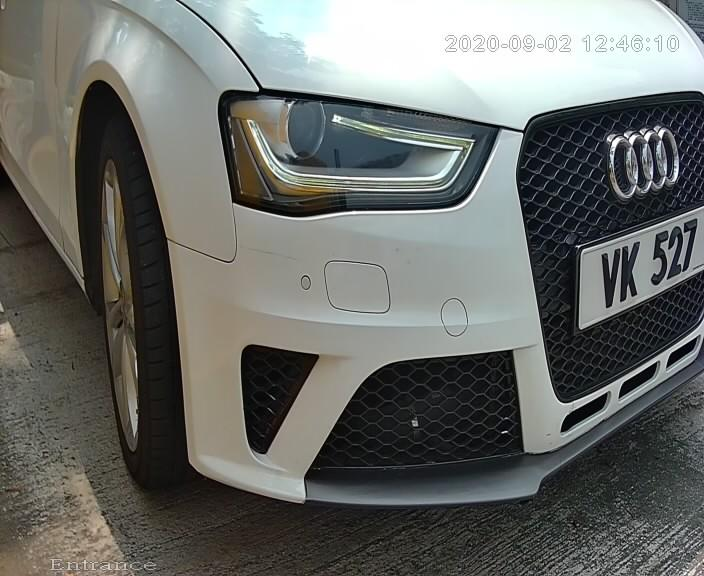License Plate: (573, 204, 701, 332)
